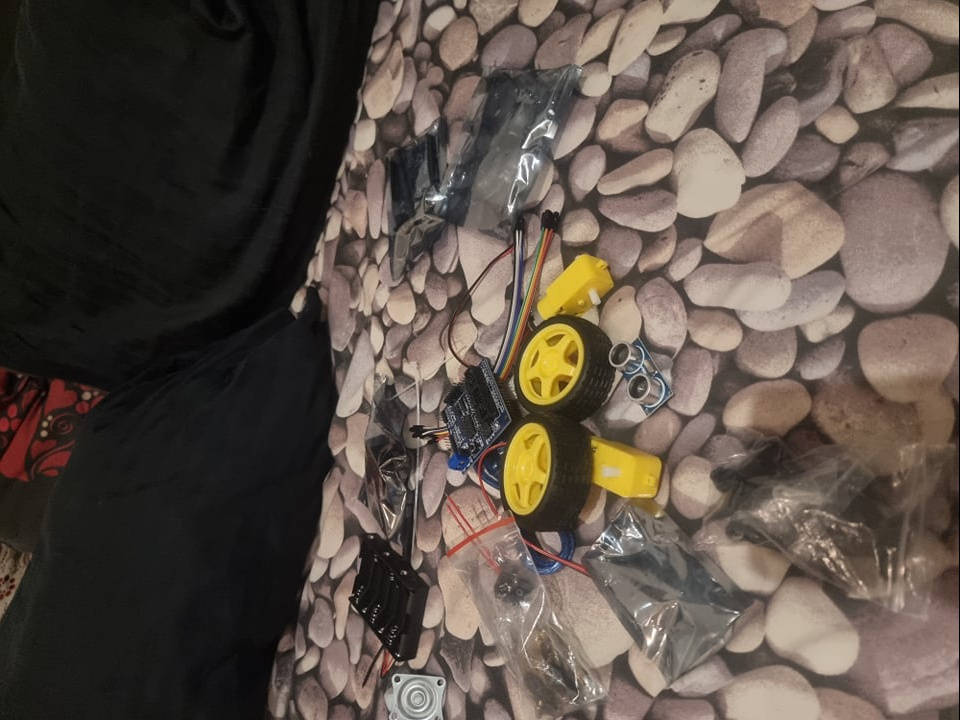5V EXPANSION: (440, 357, 514, 475)
BATTERY BOX: (347, 534, 430, 664)
SENSOR: (610, 336, 676, 419)
